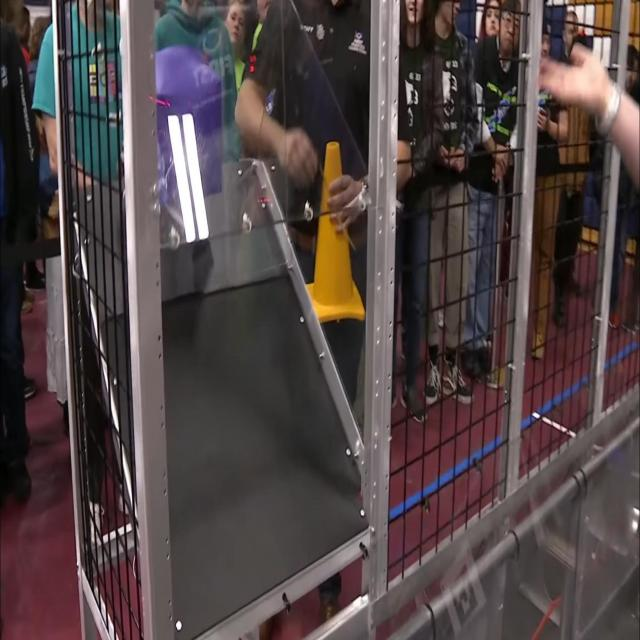frc_cone: (300, 138, 366, 321)
frc_cube: (146, 43, 222, 208)
